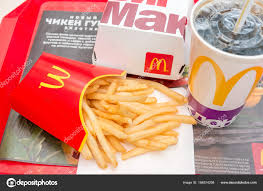coke: (186, 1, 263, 132)
